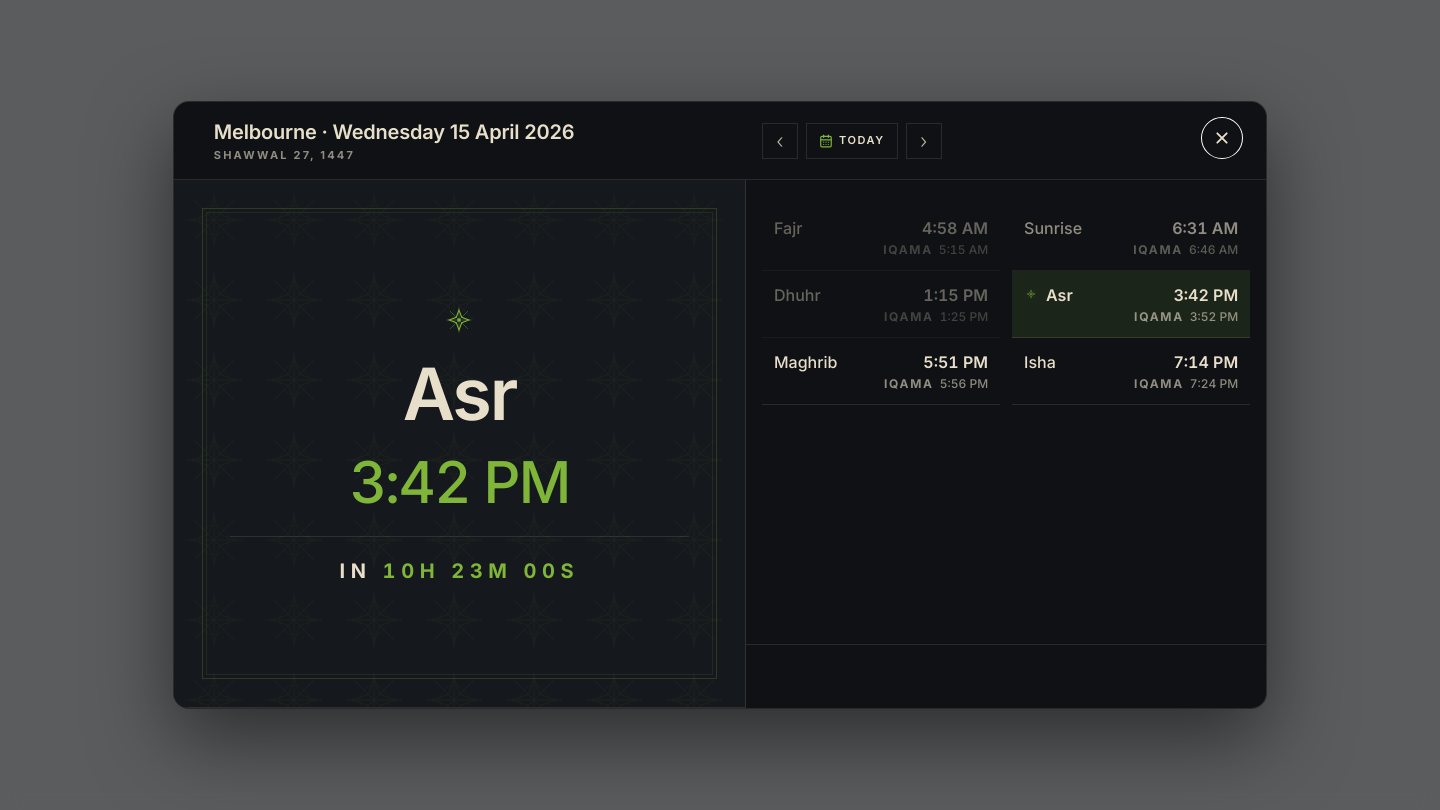
Test: PrayerWidget — open/close interactions › clicking the close button closes the widget
Click the button named "close": [1222, 138] box [1202,118,1242,158]
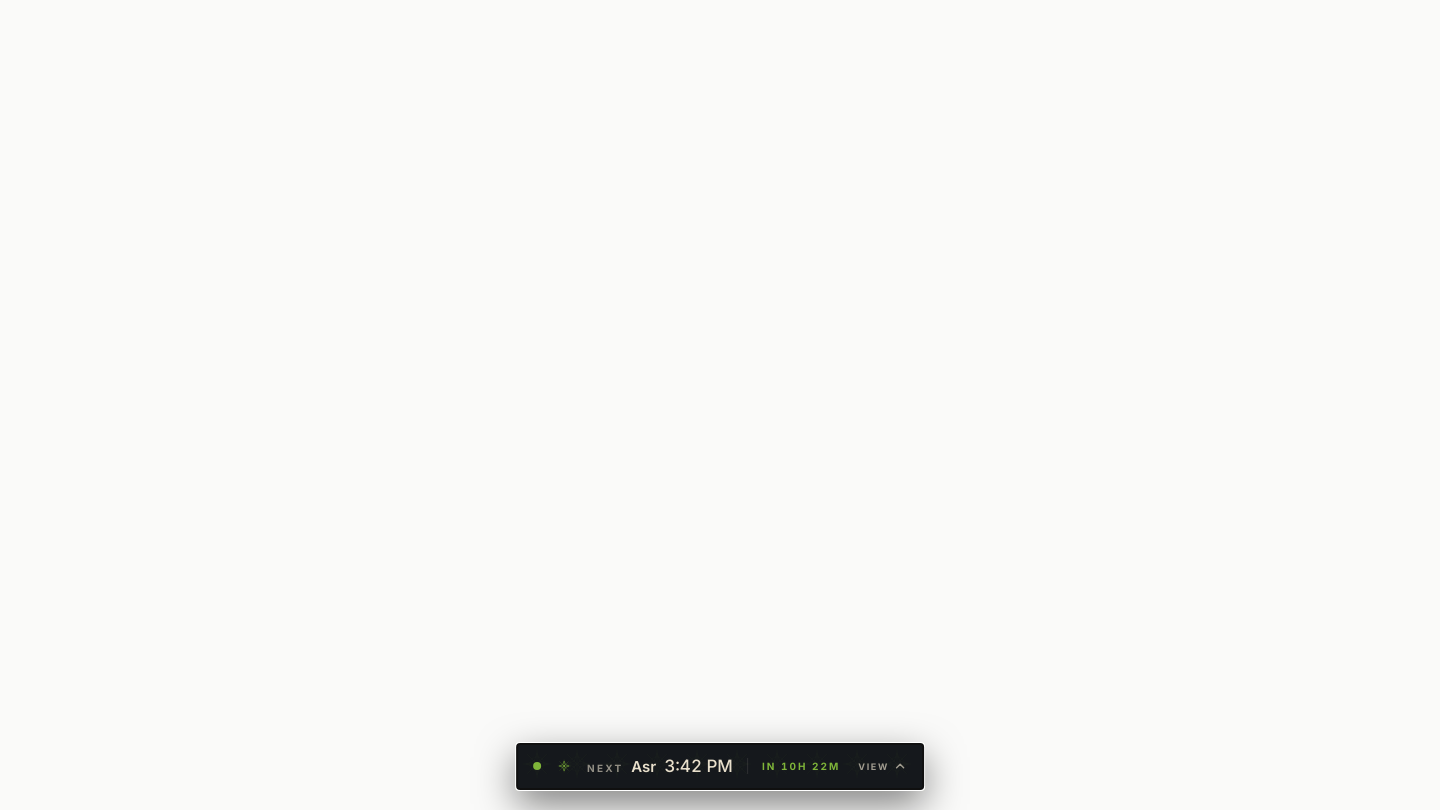
Expected: the dialog is gone
Expected: the button with aria-label "open prayer times" is shown, [516,742,924,790]
